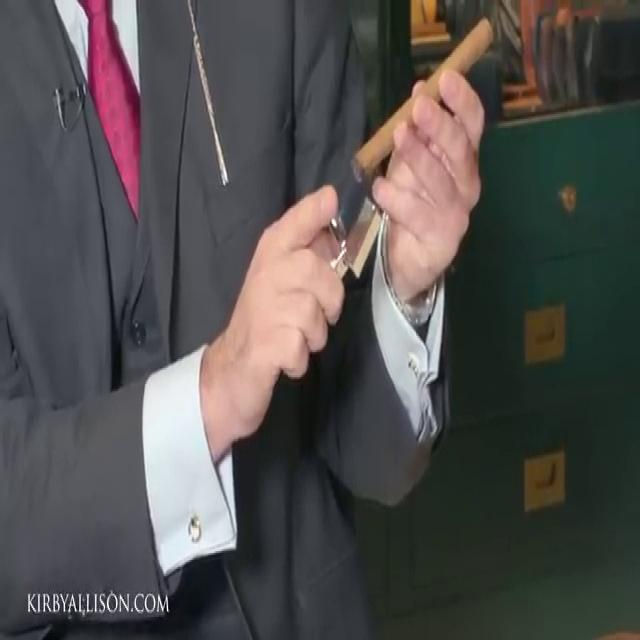Smooking: (334, 9, 499, 201)
